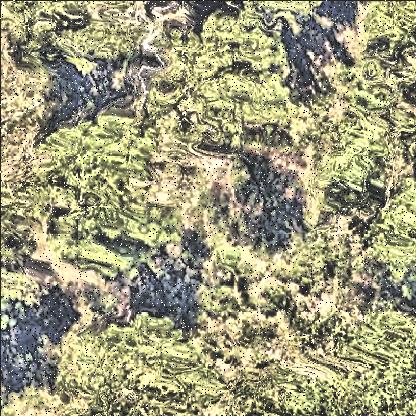tree-top: (154, 15, 298, 148), (48, 199, 188, 291), (301, 115, 400, 225), (45, 108, 157, 198), (2, 7, 138, 77), (2, 220, 48, 334)
